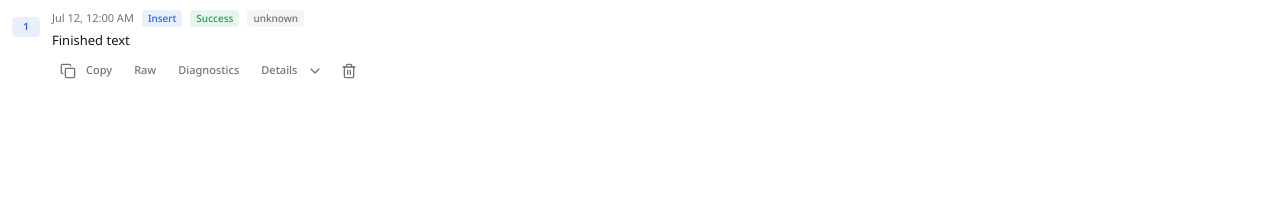
Scenario: TranscriptionItem › labels a service-chosen cleanup model as managed rather than selected
Click the button "Details" at (292, 70), box [253,58,332,82]
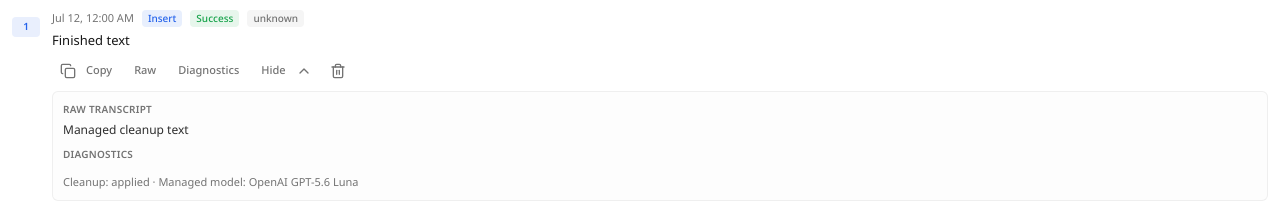
Check: the text "Cleanup: applied · Managed model: OpenAI GPT-5.6 Luna" does not show "Selected:", box [63,174,358,188]
Check: the text "Cleanup: applied · Managed model: OpenAI GPT-5.6 Luna" is shown, box [63,174,358,188]
